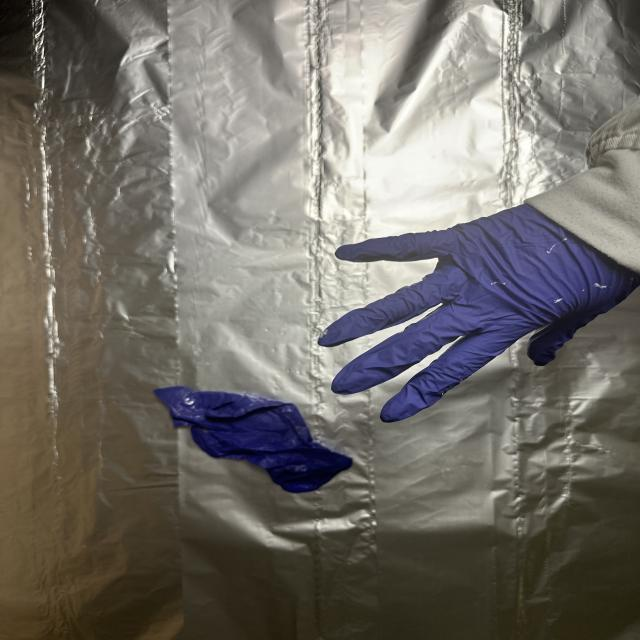gloves_contaminated: (319, 205, 640, 422)
